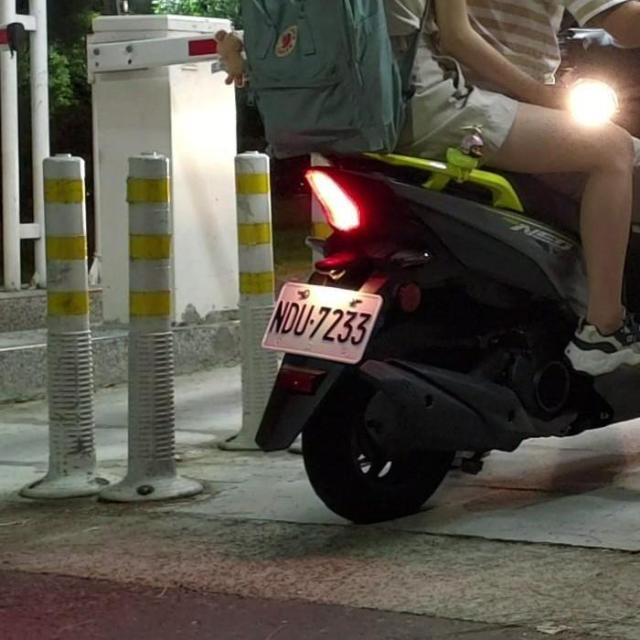W: (259, 274, 386, 366)
